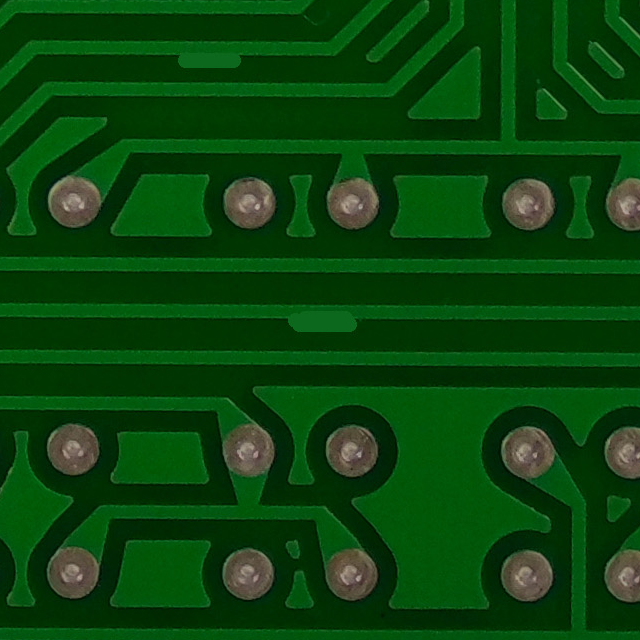spur: (262, 290, 378, 350), (164, 33, 249, 79)
